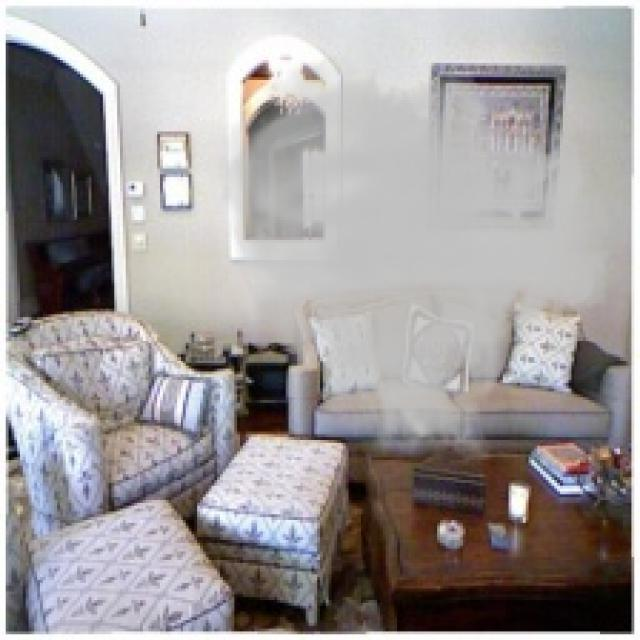Smoke: (215, 51, 614, 468)
